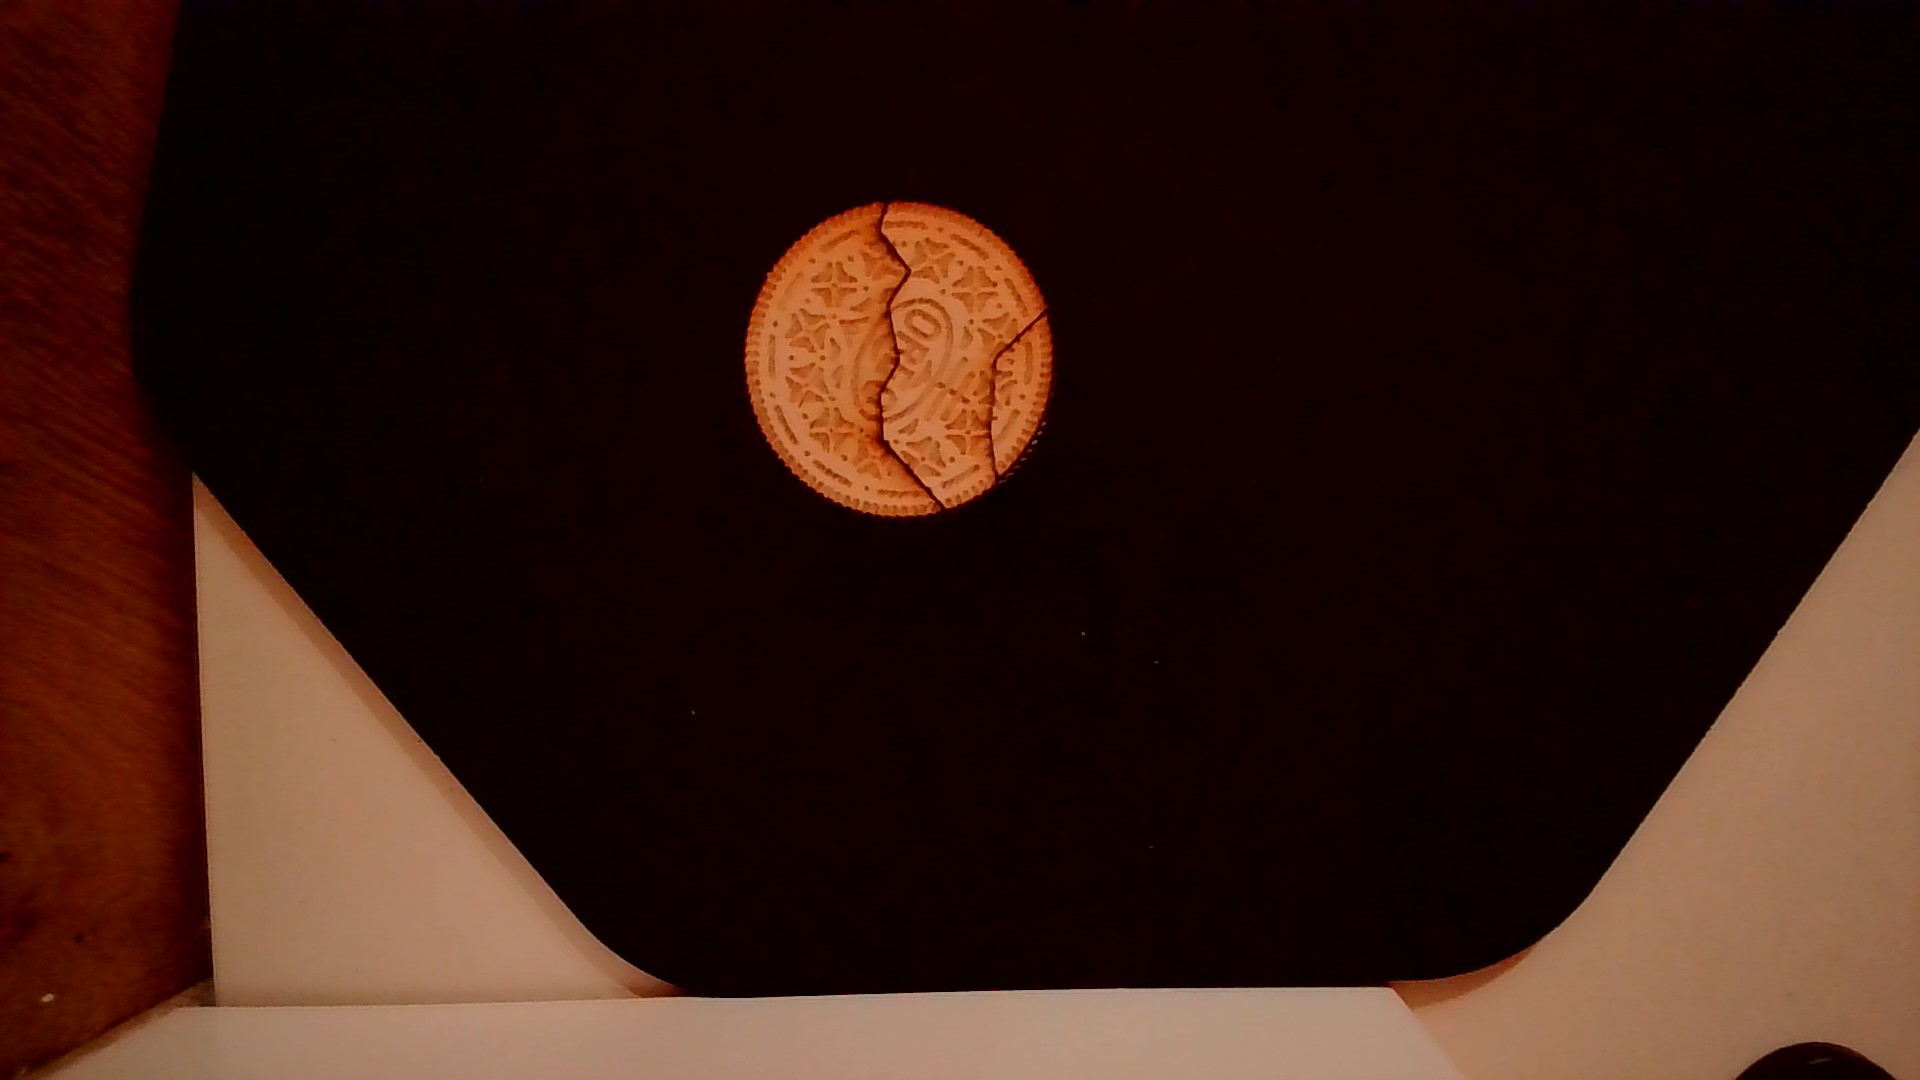Fissure: (868, 203, 956, 512), (982, 309, 1044, 483)
Oréo: (737, 194, 1060, 524)
